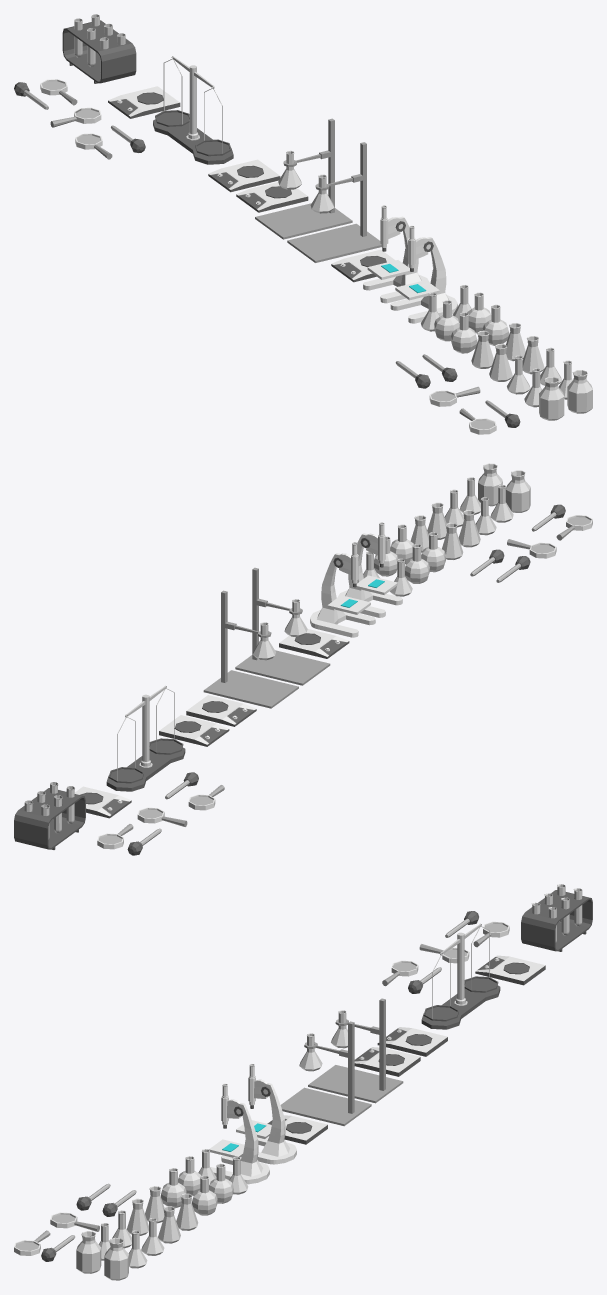
Rendered from Alat Alat Lab.fbx.
3 views of the same model, one above another, from view 1: azimuth 30°, elevation 25°; view 2: azimuth 150°, elevation 25°; view 3: azimuth 330°, elevation 25° (orthographic). The views are drawn at different scales.
Visible parts, largest first — view 1: Cylinder, Cube.003, Cube.002, Cube.001, Cylinder.008, Cylinder.007, Cylinder.001, Cylinder.006, Cylinder.005, Cylinder.004, Cylinder.033, Circle.011 (+10 smaller); view 2: Cylinder, Cube.001, Cylinder.007, Cube.002, Cube.003, Cylinder.008, Cylinder.005, Cylinder.006, Cylinder.004, Cylinder.001, Cylinder.033, Circle.010 (+9 smaller); view 3: Cylinder, Cube.003, Cube.002, Cube.001, Cylinder.008, Cylinder.007, Cylinder.001, Cylinder.006, Cylinder.005, Cylinder.033, Cylinder.004, Circle.010 (+10 smaller).
Part boxes in pixels (x1,y1,x2,y2): Cylinder: [153, 56, 233, 164]; Cube.003: [287, 142, 381, 262]; Cube.002: [62, 20, 136, 83]; Cube.001: [255, 118, 352, 239]; Cylinder.008: [390, 225, 457, 323]; Cylinder.007: [363, 205, 429, 303]; Cylinder.001: [108, 86, 180, 118]; Cylinder.006: [208, 159, 280, 192]; Cylinder.005: [236, 182, 308, 212]; Cylinder.004: [331, 249, 395, 282]; Cylinder.033: [74, 14, 125, 72]; Circle.011: [567, 370, 592, 413]; Cylinder: [106, 685, 185, 791]; Cube.001: [203, 590, 298, 708]; Cylinder.007: [310, 542, 375, 637]; Cube.002: [14, 788, 85, 849]; Cube.003: [235, 567, 330, 685]; Cylinder.008: [337, 522, 402, 617]; Cylinder.005: [186, 695, 256, 726]; Cylinder.006: [159, 715, 229, 746]; Cylinder.004: [279, 629, 349, 658]; Cylinder.001: [74, 786, 131, 818]; Cylinder.033: [24, 782, 75, 839]; Circle.010: [506, 470, 530, 512]; Cylinder: [421, 923, 500, 1029]; Cube.003: [280, 1021, 371, 1126]; Cube.002: [521, 890, 592, 951]; Cube.001: [308, 998, 403, 1103]; Cylinder.008: [209, 1083, 269, 1184]; Cylinder.007: [236, 1063, 296, 1164]; Cylinder.001: [475, 955, 545, 985]; Cylinder.006: [377, 1027, 447, 1056]; Cylinder.005: [354, 1047, 420, 1076]; Cylinder.033: [531, 884, 582, 943]; Cylinder.004: [267, 1115, 327, 1144]; Circle.010: [76, 1231, 101, 1273].
Size of the model in its own units: 169 by 121 by 1119.
